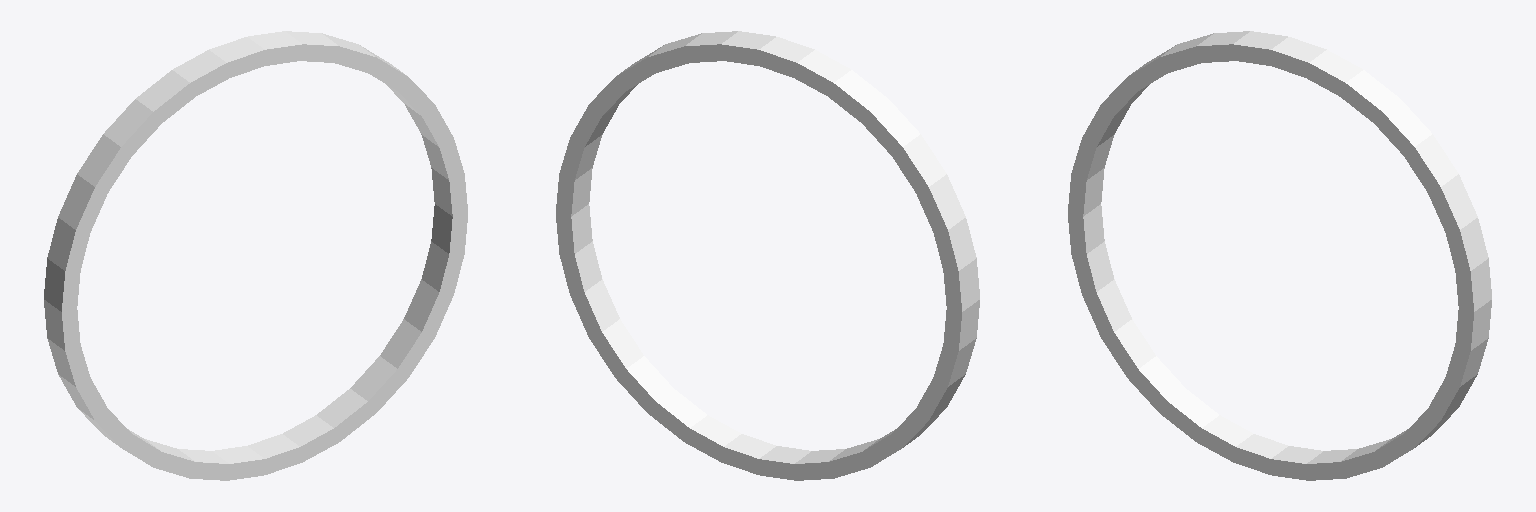
The model's file is border.obj.
3 views of the same model, side by side, from view 1: azimuth 30°, elevation 25°; view 2: azimuth 150°, elevation 25°; view 3: azimuth 330°, elevation 25° (orthographic).
Parts seen in each view (by area): view 1: Default object_1; view 2: Default object_1; view 3: Default object_1.
Boxes of the visible parts, x1,y1,x2,y2 form: Default object_1: [44, 31, 467, 480]; Default object_1: [556, 31, 979, 480]; Default object_1: [1068, 31, 1491, 480].
Size of the model in its own units: 26 by 26 by 2.